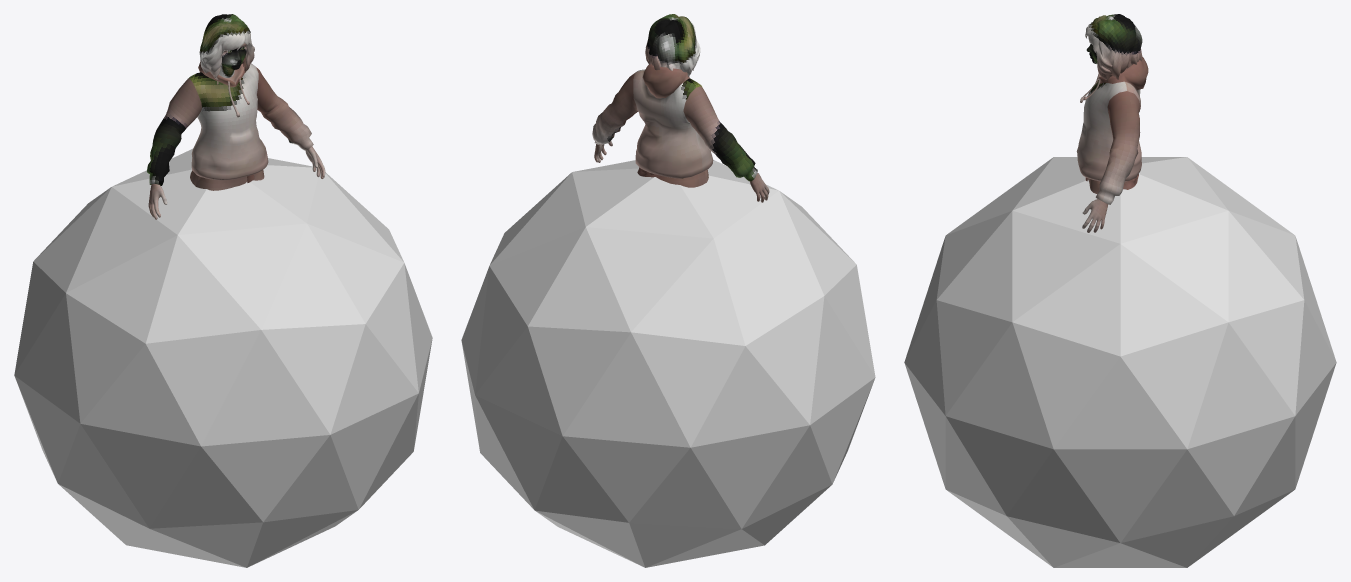
Rendered from female3.fbx.
3 renders of one model, left to right at view 1: azimuth 30°, elevation 25°; view 2: azimuth 150°, elevation 25°; view 3: azimuth 270°, elevation 25°, orthographic. The views are drawn at different scales.
Parts seen in each view (by area): view 1: Icosphere, Wolf3D_Outfit_Top, Wolf3D_Hair, Wolf3D_Body, Wolf3D_Outfit_Bottom, Wolf3D_Head; view 2: Icosphere, Wolf3D_Outfit_Top, Wolf3D_Hair, Wolf3D_Outfit_Bottom, Wolf3D_Body; view 3: Icosphere, Wolf3D_Outfit_Top, Wolf3D_Hair, Wolf3D_Body.
Part boxes in pixels (x1,y1,x2,y2): Icosphere: (14, 148, 432, 567); Wolf3D_Outfit_Top: (147, 60, 313, 185); Wolf3D_Hair: (199, 14, 254, 84); Wolf3D_Body: (148, 146, 325, 219); Wolf3D_Outfit_Bottom: (190, 170, 264, 190); Wolf3D_Head: (219, 43, 246, 77); Icosphere: (461, 160, 875, 567); Wolf3D_Outfit_Top: (592, 64, 757, 181); Wolf3D_Hair: (645, 14, 700, 76); Wolf3D_Outfit_Bottom: (637, 167, 708, 187); Wolf3D_Body: (594, 140, 769, 202); Icosphere: (904, 157, 1336, 567); Wolf3D_Outfit_Top: (1076, 57, 1148, 204); Wolf3D_Hair: (1085, 14, 1142, 81); Wolf3D_Body: (1082, 199, 1108, 232).
Bounding box in the file's own units: 190 × 276 × 200.
Materials: 8 (8 with a texture image).
